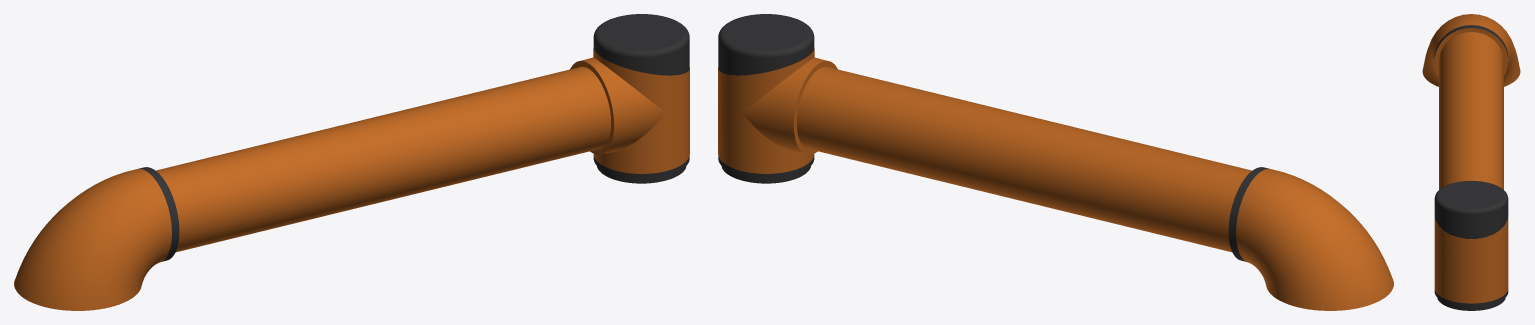
3 renders of one model, left to right at view 1: azimuth 30°, elevation 25°; view 2: azimuth 150°, elevation 25°; view 3: azimuth 270°, elevation 25°, orthographic. The views are drawn at different scales.
Parts seen in each view (by area): view 1: NONE-DC_Shell_ncl1_1, NONE-DC_Shell, NONE-DC_Shell_ncl1_3, NONE-DC_Shell_ncl1_4, NONE-DC_Shell_ncl1_2; view 2: NONE-DC_Shell_ncl1_1, NONE-DC_Shell, NONE-DC_Shell_ncl1_3, NONE-DC_Shell_ncl1_4, NONE-DC_Shell_ncl1_2; view 3: NONE-DC_Shell_ncl1_1, NONE-DC_Shell_ncl1_3, NONE-DC_Shell, NONE-DC_Shell_ncl1_4, NONE-DC_Shell_ncl1_2.
Boxes of the visible parts, x1,y1,x2,y2 form: NONE-DC_Shell_ncl1_1: (156, 48, 689, 252); NONE-DC_Shell: (14, 168, 171, 310); NONE-DC_Shell_ncl1_3: (593, 14, 689, 75); NONE-DC_Shell_ncl1_4: (593, 155, 689, 183); NONE-DC_Shell_ncl1_2: (139, 167, 179, 261); NONE-DC_Shell_ncl1_1: (718, 48, 1251, 252); NONE-DC_Shell: (1236, 168, 1393, 310); NONE-DC_Shell_ncl1_3: (718, 14, 814, 75); NONE-DC_Shell_ncl1_4: (718, 155, 814, 183); NONE-DC_Shell_ncl1_2: (1228, 167, 1268, 261); NONE-DC_Shell_ncl1_1: (1434, 28, 1508, 303); NONE-DC_Shell_ncl1_3: (1434, 181, 1508, 238); NONE-DC_Shell: (1422, 14, 1520, 86); NONE-DC_Shell_ncl1_4: (1434, 289, 1508, 310); NONE-DC_Shell_ncl1_2: (1434, 25, 1508, 69).
Size of the model in its own units: 0.704 by 0.118 by 0.1345.
